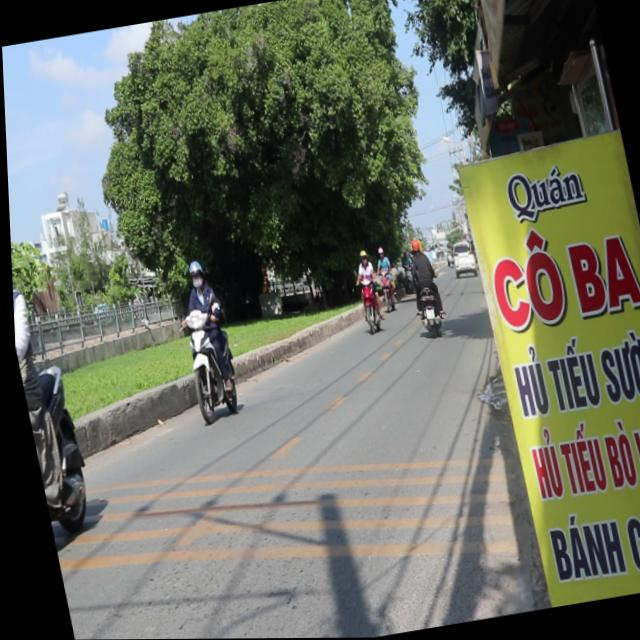helmet: (183, 258, 204, 290)
licenseplate: (8, 219, 101, 560), (164, 256, 243, 426)
